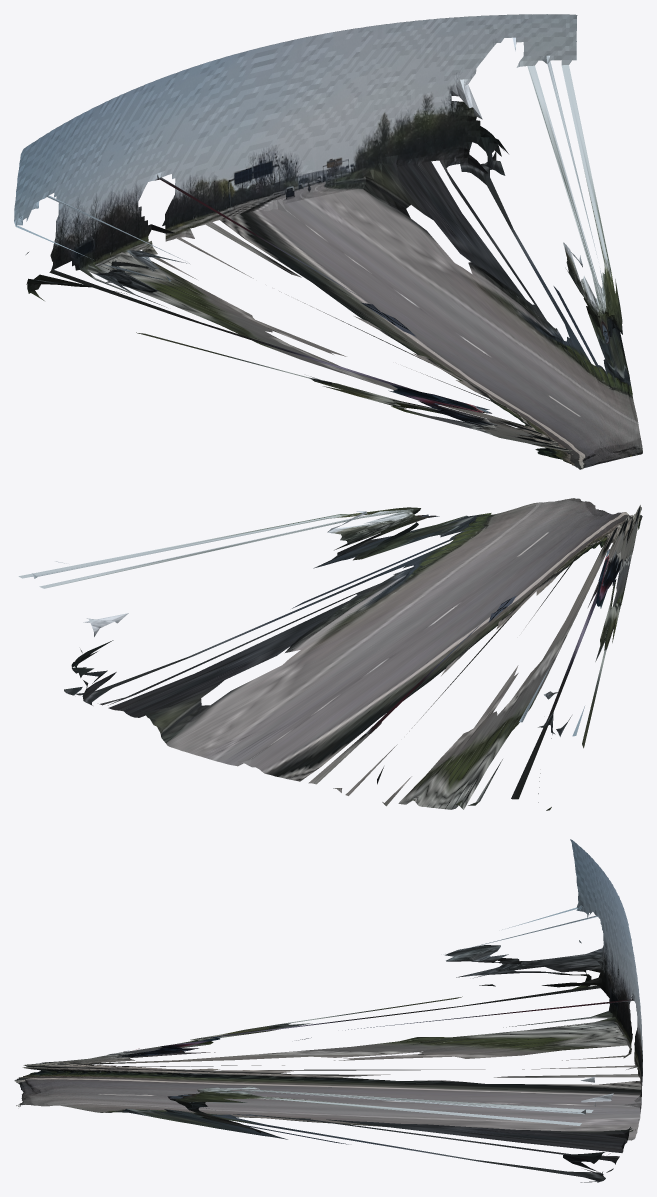
3 views of the same model, one above another, from view 1: azimuth 30°, elevation 25°; view 2: azimuth 150°, elevation 25°; view 3: azimuth 270°, elevation 25° (orthographic). The views are drawn at different scales.
Parts seen in each view (by area): view 1: defaultobject; view 2: defaultobject; view 3: defaultobject.
Part boxes in pixels (<box>): defaultobject: <box>14,14,642,469</box>; defaultobject: <box>18,498,642,810</box>; defaultobject: <box>14,839,642,1182</box>.
Bounding box in the file's own units: 41 × 12.42 × 44.7.
1 material, 1 textured.
